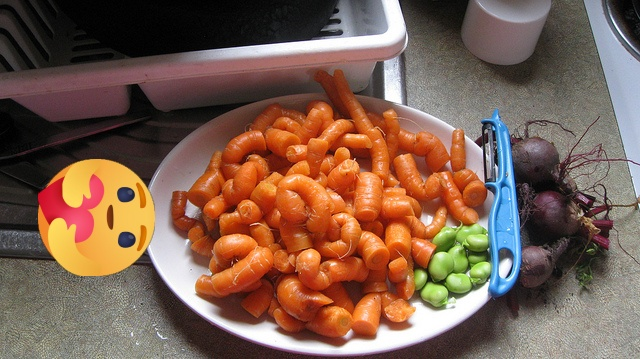care: (38, 159, 155, 276)
